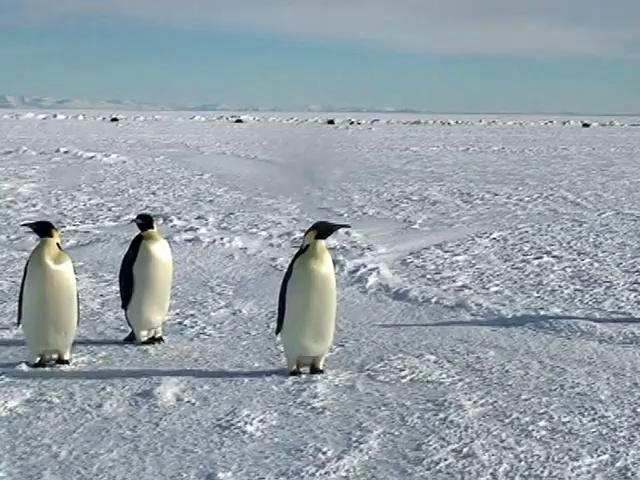animal: (275, 221, 349, 374)
